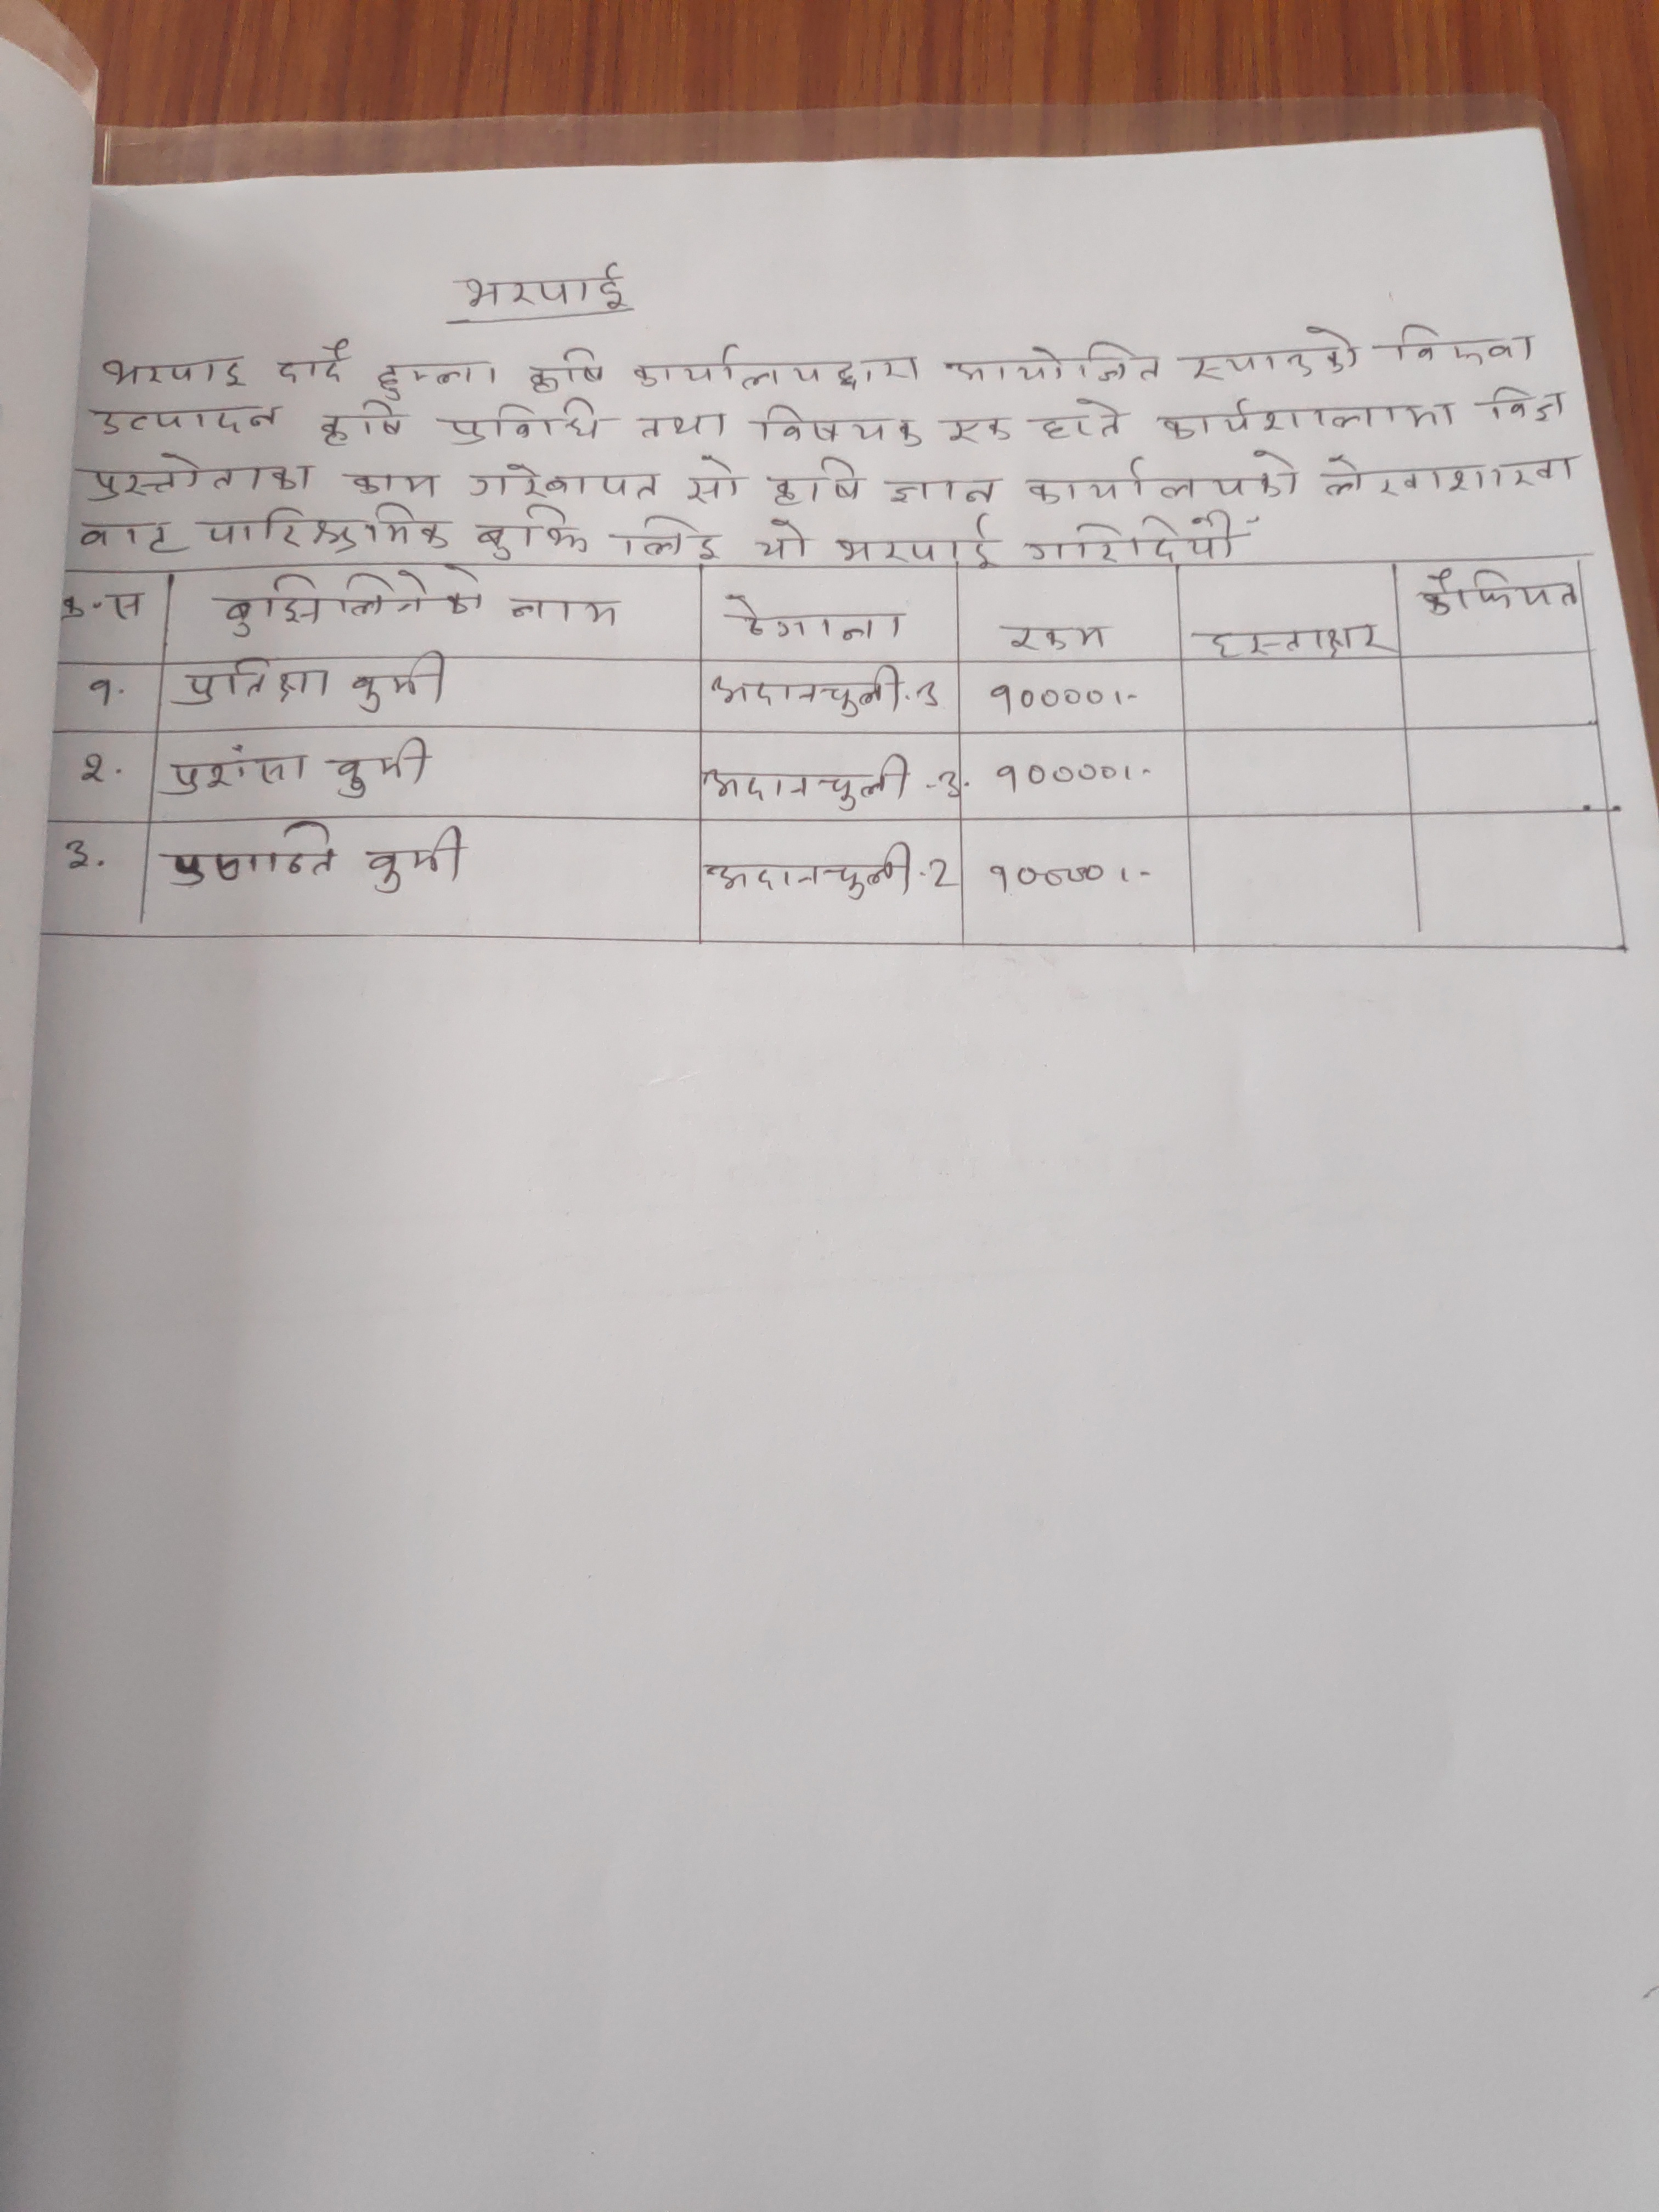text: (206, 571, 491, 639), (1019, 453, 1309, 507), (1316, 442, 1582, 500), (702, 836, 920, 900), (1154, 395, 1460, 441), (701, 749, 915, 812), (159, 817, 340, 890), (1018, 510, 1251, 566), (82, 448, 321, 502), (202, 502, 453, 552), (708, 660, 906, 719), (1183, 322, 1363, 381), (714, 589, 910, 643), (629, 340, 824, 392), (835, 514, 1004, 571), (943, 341, 1166, 385), (1195, 617, 1389, 662), (464, 458, 664, 502), (164, 740, 310, 799), (439, 399, 605, 451), (450, 263, 626, 312), (1417, 564, 1581, 617), (753, 401, 924, 449), (361, 826, 467, 900), (178, 658, 340, 707), (471, 502, 596, 564), (92, 395, 281, 435), (328, 732, 434, 799), (98, 348, 253, 392), (1394, 322, 1535, 369), (350, 648, 450, 714), (765, 453, 868, 510), (373, 357, 505, 401), (986, 759, 1124, 801), (73, 514, 190, 563), (988, 855, 1114, 899), (619, 510, 725, 561), (997, 611, 1119, 655), (502, 592, 634, 629), (314, 399, 411, 448), (1032, 394, 1129, 442), (985, 679, 1107, 716), (631, 402, 727, 448), (882, 470, 1004, 505), (272, 334, 352, 385), (526, 347, 612, 392), (678, 451, 744, 509), (58, 590, 150, 631), (1486, 381, 1572, 423), (836, 354, 929, 390), (342, 470, 444, 500), (756, 512, 810, 564), (943, 411, 1014, 446), (82, 672, 122, 711), (64, 836, 96, 880), (80, 751, 108, 789)
